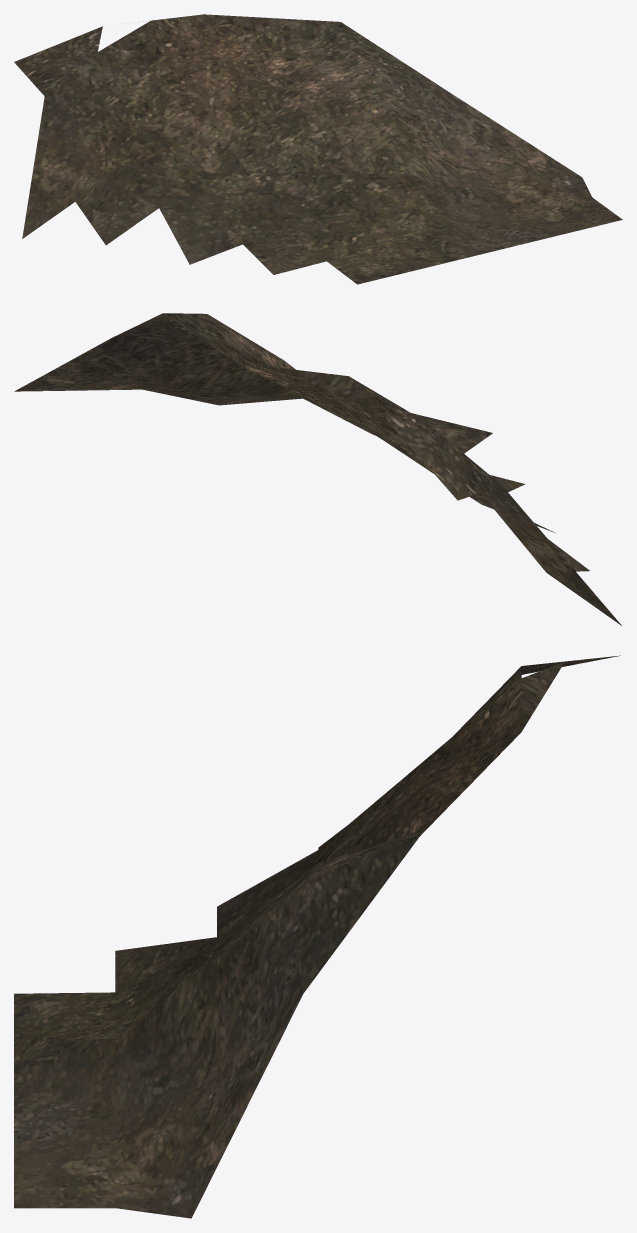
Rendered from blend_weeds11.fbx.
3 views of the same model, one above another, from view 1: azimuth 30°, elevation 25°; view 2: azimuth 150°, elevation 25°; view 3: azimuth 270°, elevation 25° (orthographic). The views are drawn at different scales.
Parts seen in each view (by area): view 1: New_terrain/weeds_shadow; view 2: New_terrain/weeds_shadow; view 3: New_terrain/weeds_shadow.
Part boxes in pixels (left/top/right/bottom): New_terrain/weeds_shadow: left=14, top=14, right=622, bottom=284; New_terrain/weeds_shadow: left=14, top=313, right=621, bottom=625; New_terrain/weeds_shadow: left=14, top=655, right=620, bottom=1218.
Size of the model in its own units: 23.11 by 7.4 by 15.
